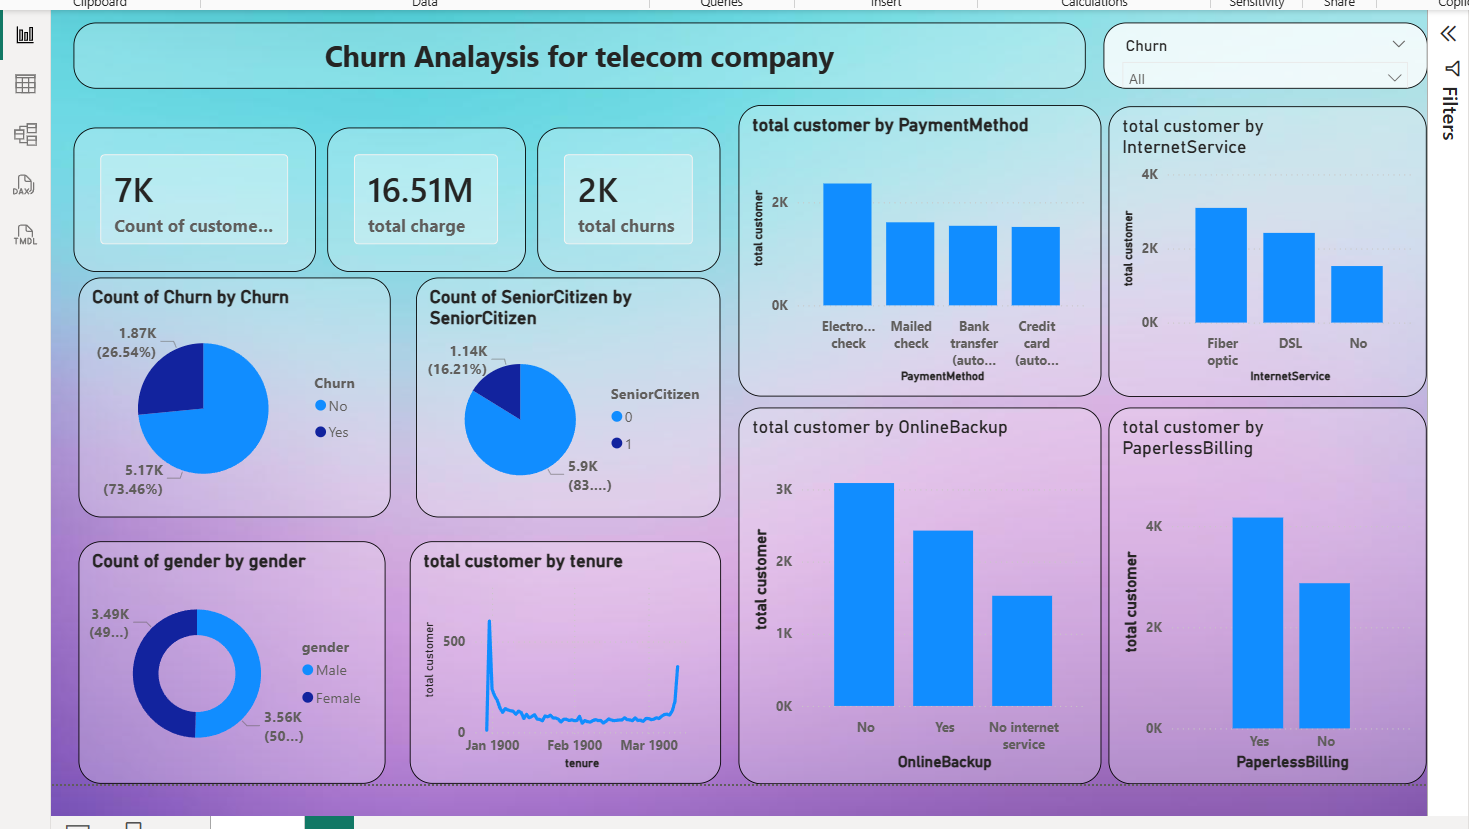

The dashboard page shown, as its layout file describes it:
{"tool":"powerbi","page":{"name":"Page 1","canvas":[1280,720],"ordinal":0},"visuals":[{"type":"cardVisual","fields":{"Data":["Count(WA_Fn-UseC_-Telco-Customer-Churn.customerID)"]},"box":[20.4,109.3,225.7,134.5],"z":0},{"type":"textbox","box":[20.4,12,941.4,61.2],"z":1000},{"type":"pieChart","fields":{"Category":["WA_Fn-UseC_-Telco-Customer-Churn.Churn"],"Y":["CountNonNull(WA_Fn-UseC_-Telco-Customer-Churn.Churn)"]},"box":[25.2,248.6,290.6,223.3],"z":2000},{"type":"donutChart","fields":{"Y":["CountNonNull(WA_Fn-UseC_-Telco-Customer-Churn.gender)"],"Category":["WA_Fn-UseC_-Telco-Customer-Churn.gender"]},"box":[25.2,494.7,285.8,225.7],"z":3000},{"type":"cardVisual","fields":{"Data":["WA_Fn-UseC_-Telco-Customer-Churn.total charge"]},"box":[257,109.3,184.9,134.5],"z":4000},{"type":"columnChart","fields":{"Category":["WA_Fn-UseC_-Telco-Customer-Churn.InternetService"],"Y":["WA_Fn-UseC_-Telco-Customer-Churn.total customer"]},"box":[983.7,89.3,296.2,270.2],"z":5000},{"type":"pieChart","fields":{"Y":["CountNonNull(WA_Fn-UseC_-Telco-Customer-Churn.SeniorCitizen)"],"Category":["WA_Fn-UseC_-Telco-Customer-Churn.SeniorCitizen"]},"box":[339.8,248.6,283.4,223.3],"z":6000},{"type":"columnChart","fields":{"Category":["WA_Fn-UseC_-Telco-Customer-Churn.PaperlessBilling"],"Y":["WA_Fn-UseC_-Telco-Customer-Churn.total customer"]},"box":[983.7,369.7,296.2,350.5],"z":7000},{"type":"lineChart","fields":{"Y":["WA_Fn-UseC_-Telco-Customer-Churn.total customer"],"Category":["WA_Fn-UseC_-Telco-Customer-Churn.tenure"]},"box":[333.8,494.7,289.4,225.7],"z":8000},{"type":"columnChart","fields":{"Category":["WA_Fn-UseC_-Telco-Customer-Churn.OnlineBackup"],"Y":["WA_Fn-UseC_-Telco-Customer-Churn.total customer"]},"box":[640,369.8,337.4,350.6],"z":9000},{"type":"columnChart","fields":{"Category":["WA_Fn-UseC_-Telco-Customer-Churn.PaymentMethod"],"Y":["WA_Fn-UseC_-Telco-Customer-Churn.total customer"]},"box":[640,88.9,337.4,271.4],"z":9001},{"type":"cardVisual","fields":{"Data":["WA_Fn-UseC_-Telco-Customer-Churn.total churns"]},"box":[452.7,109.3,170.5,134.5],"z":9002},{"type":"slicer","fields":{"Values":["WA_Fn-UseC_-Telco-Customer-Churn.Churn"]},"box":[978.6,12,301.4,61.2],"z":9003}]}

Visuals, with their boxes in screenshot pixels (x1, y1, x2, y2):
cardVisual - Count(WA_Fn-UseC_-Telco-Customer-Churn.customerID): BBox(49, 115, 295, 262)
textbox: BBox(49, 9, 1077, 76)
pieChart - WA_Fn-UseC_-Telco-Customer-Churn.Churn x CountNonNull(WA_Fn-UseC_-Telco-Customer-Churn.Churn): BBox(54, 268, 372, 511)
donutChart - CountNonNull(WA_Fn-UseC_-Telco-Customer-Churn.gender) x WA_Fn-UseC_-Telco-Customer-Churn.gender: BBox(54, 536, 366, 783)
cardVisual - WA_Fn-UseC_-Telco-Customer-Churn.total charge: BBox(307, 115, 509, 262)
columnChart - WA_Fn-UseC_-Telco-Customer-Churn.InternetService x WA_Fn-UseC_-Telco-Customer-Churn.total customer: BBox(1101, 94, 1424, 389)
pieChart - CountNonNull(WA_Fn-UseC_-Telco-Customer-Churn.SeniorCitizen) x WA_Fn-UseC_-Telco-Customer-Churn.SeniorCitizen: BBox(398, 268, 707, 511)
columnChart - WA_Fn-UseC_-Telco-Customer-Churn.PaperlessBilling x WA_Fn-UseC_-Telco-Customer-Churn.total customer: BBox(1101, 400, 1424, 782)
lineChart - WA_Fn-UseC_-Telco-Customer-Churn.total customer x WA_Fn-UseC_-Telco-Customer-Churn.tenure: BBox(391, 536, 707, 783)
columnChart - WA_Fn-UseC_-Telco-Customer-Churn.OnlineBackup x WA_Fn-UseC_-Telco-Customer-Churn.total customer: BBox(725, 400, 1094, 783)
columnChart - WA_Fn-UseC_-Telco-Customer-Churn.PaymentMethod x WA_Fn-UseC_-Telco-Customer-Churn.total customer: BBox(725, 93, 1094, 389)
cardVisual - WA_Fn-UseC_-Telco-Customer-Churn.total churns: BBox(521, 115, 707, 262)
slicer - WA_Fn-UseC_-Telco-Customer-Churn.Churn: BBox(1095, 9, 1424, 76)
